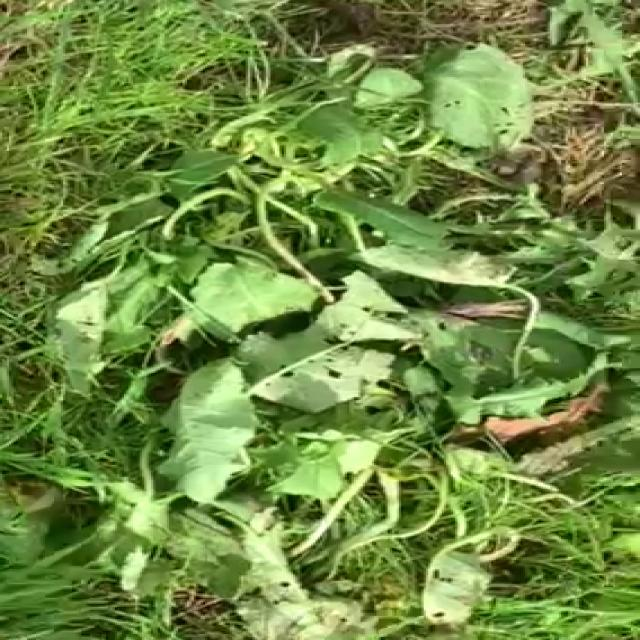organic waste: (115, 39, 626, 418), (24, 323, 530, 577)
